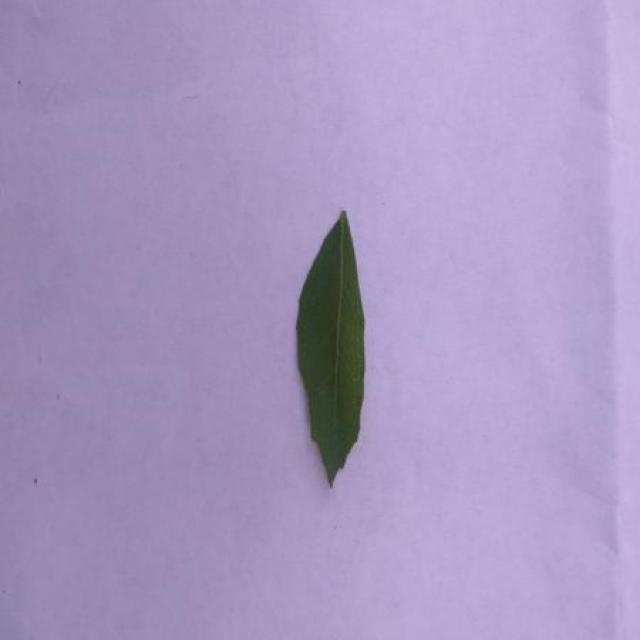curry: (297, 211, 365, 486)
